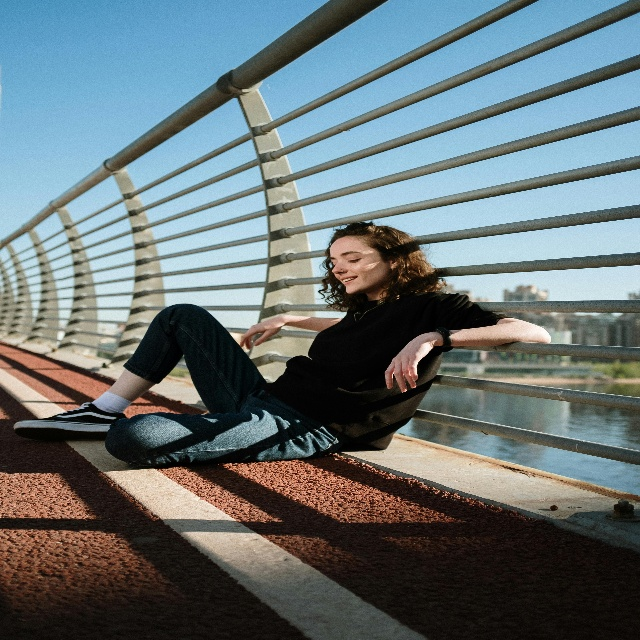Sin_guantes: (384, 333, 433, 393), (240, 314, 282, 351)
